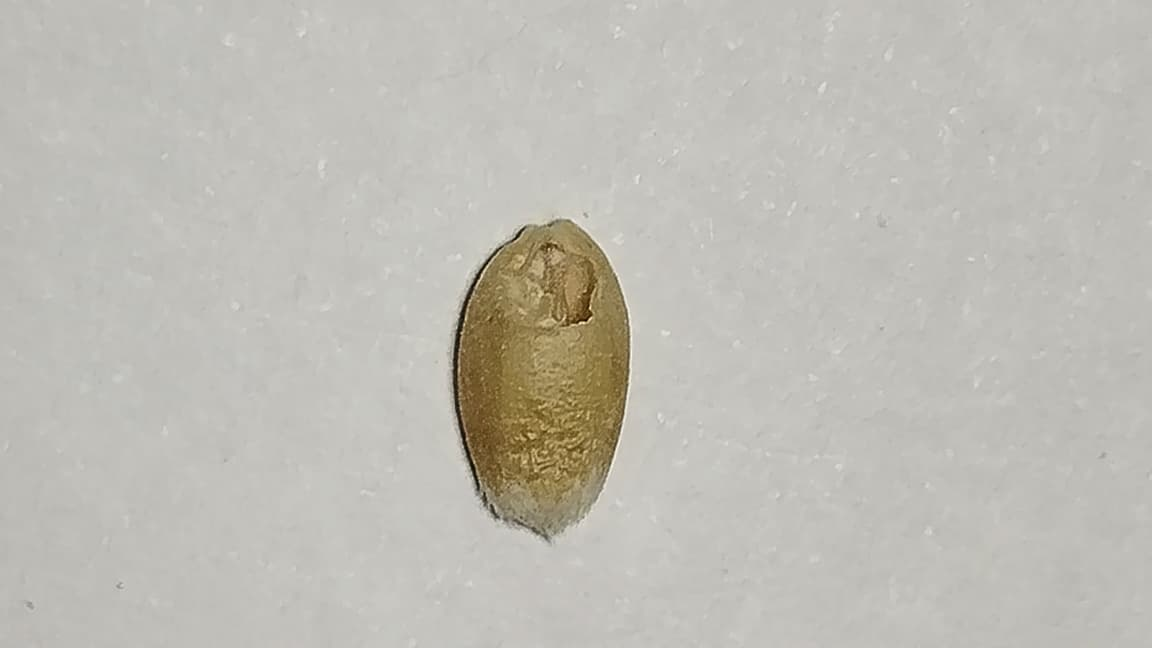damage: (452, 219, 631, 534)
insectdamage: (504, 238, 599, 333)
